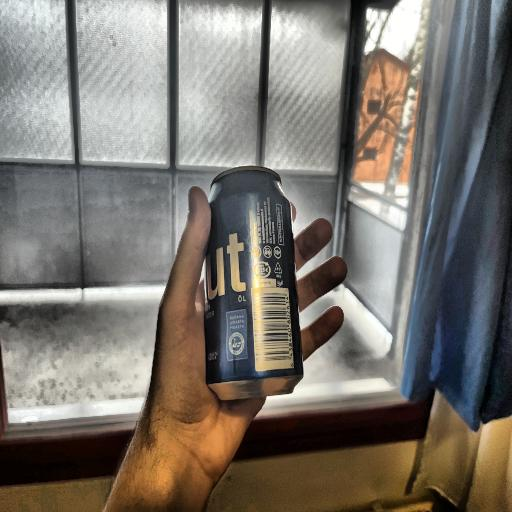koti: (198, 162, 303, 400)
